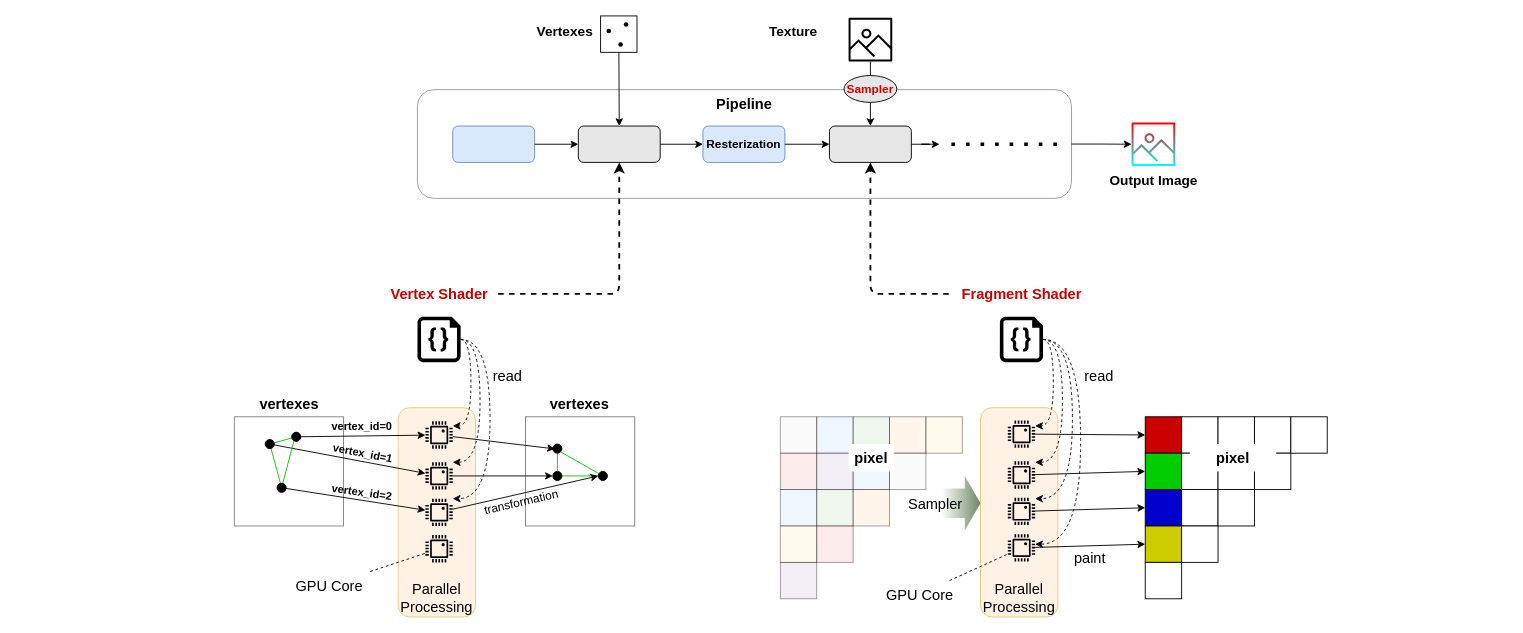
This 1523x633 diagram has some shape labels left out. Each missing label, with the centre of its shape:
"Fragment Function" belongs at (x=870, y=143).
"Primitives" belongs at (x=493, y=143).
"Vertex Function" belongs at (x=618, y=143).
